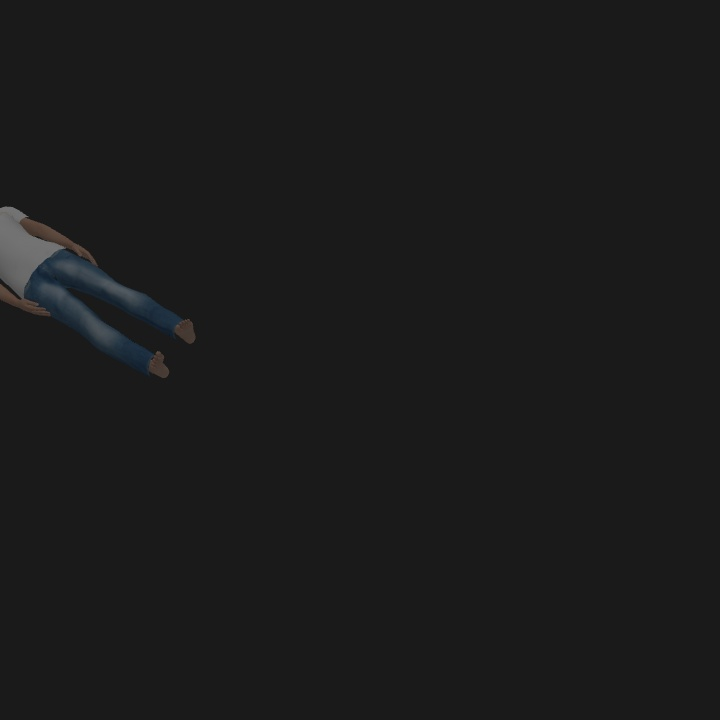victim: (1, 202, 198, 377)
